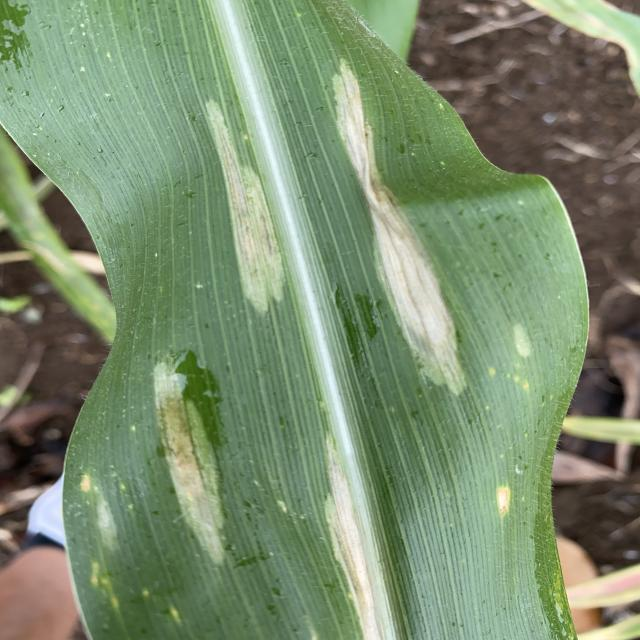Corn_Leaf_Blight: (59, 24, 594, 640)
